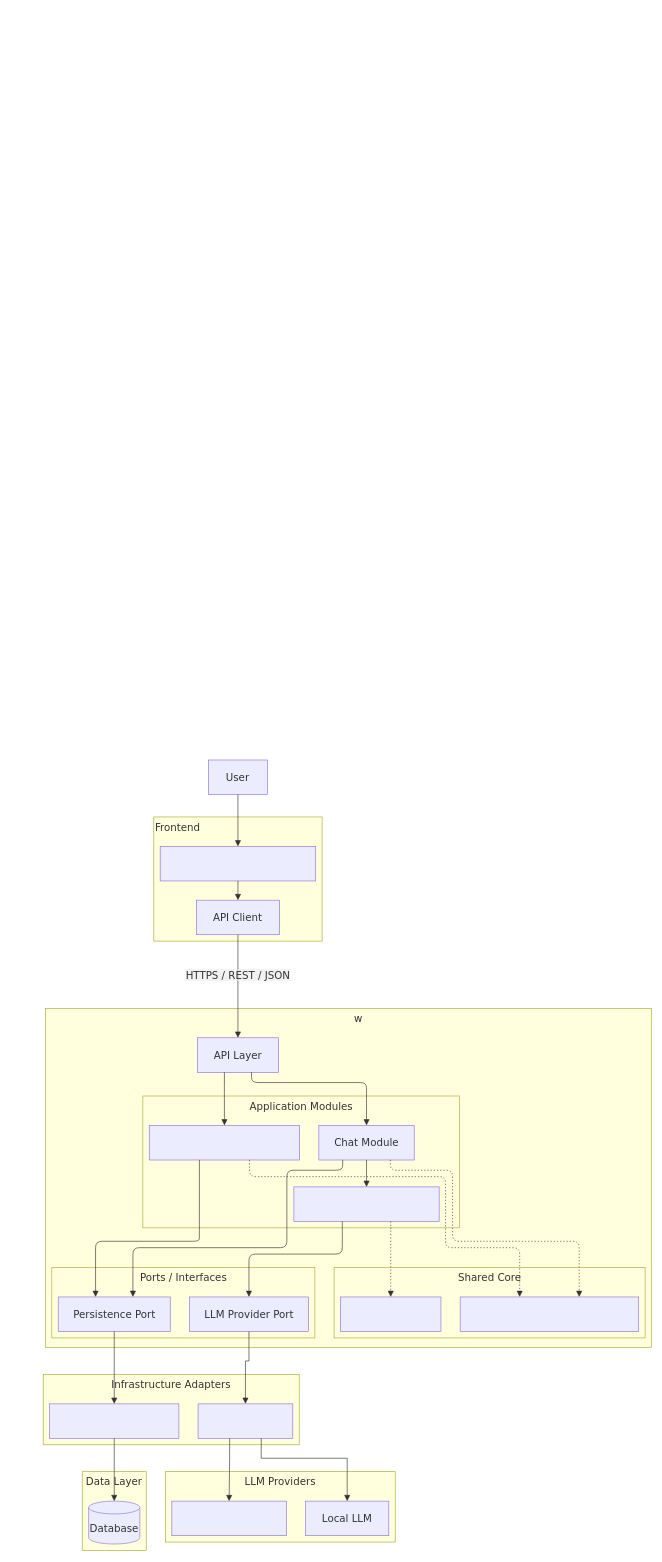
This 662x1562 diagram has some shape labels left out. The shapes that lost their labels are listed below. From the top down, each one's centre as x and y in pixels, then its label:
At (238,863): "Pages and UI Components".
At (224,1142): "User and Session Module".
At (366,1203): "LLM Integration Module".
At (390,1314): "Configuration".
At (549,1314): "Common Types and Exceptions".
At (114,1420): "Persistence Adapter".
At (245,1420): "LLM Adapter".
At (228,1518): "External LLM API".
